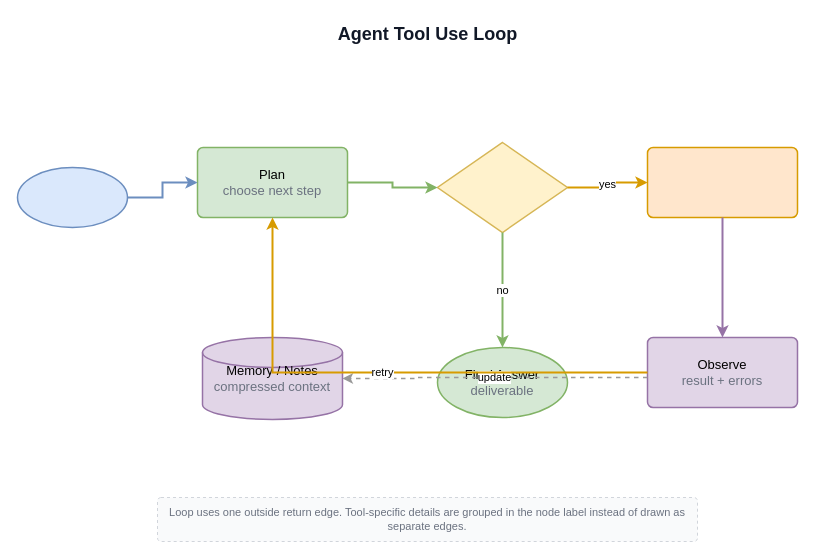
Some shapes in this 816 by 559 pixel diagram are drawn without their labels. The centre of each missing label's shape, as x and y in pixels:
Need tool?: the point at 502,187
Task: the point at 72,197
Tool Call search / code / file: the point at 722,182
